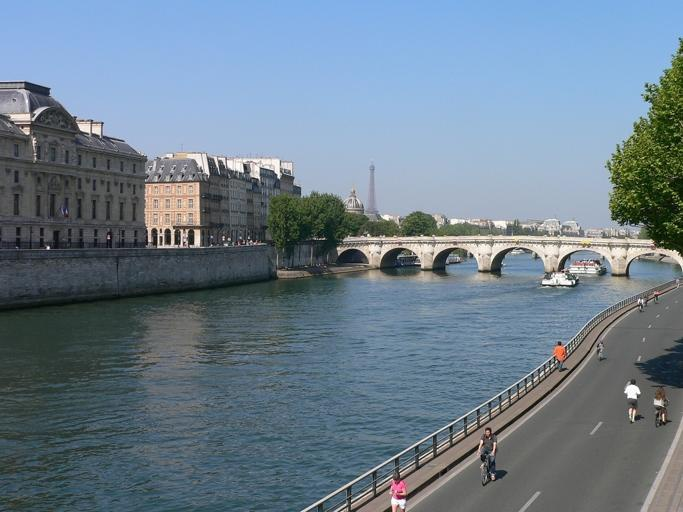non-vehicle: (478, 453, 498, 485), (653, 395, 671, 426)
